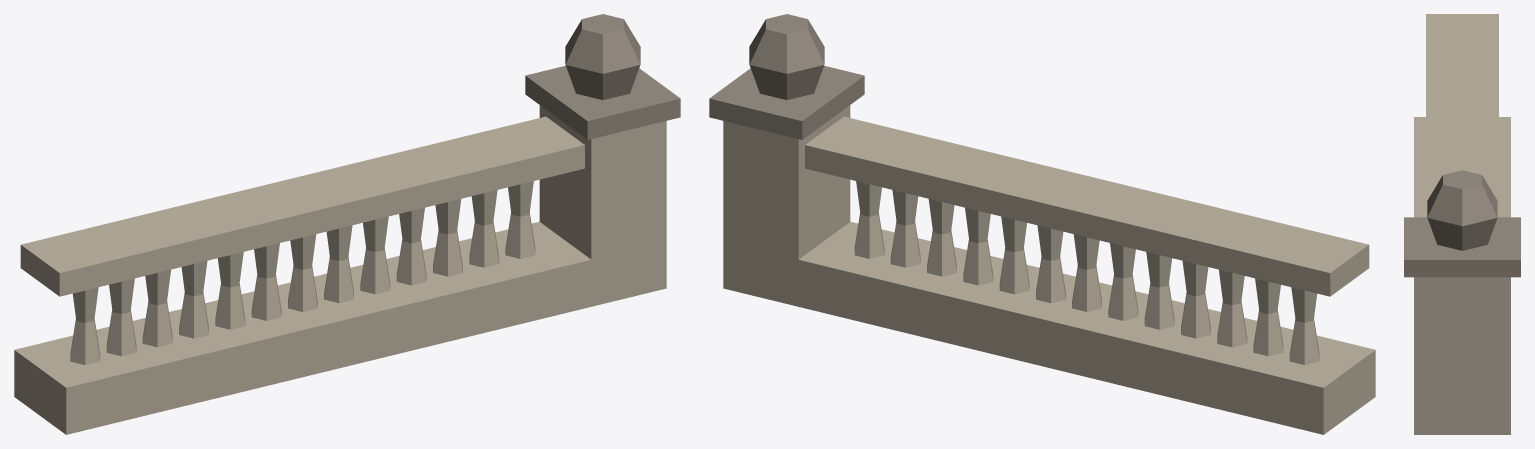
Rendered from wall_low.fbx.
3 views of the same model, side by side, from view 1: azimuth 30°, elevation 25°; view 2: azimuth 150°, elevation 25°; view 3: azimuth 270°, elevation 25° (orthographic). The views are drawn at different scales.
Parts seen in each view (by area): view 1: wall_low; view 2: wall_low; view 3: wall_low.
Part boxes in pixels (x1,y1,x2,y2): wall_low: [14, 14, 680, 434]; wall_low: [709, 14, 1375, 434]; wall_low: [1404, 14, 1520, 434].
Bounding box in the file's own units: 4.06 × 1.62 × 0.72.
